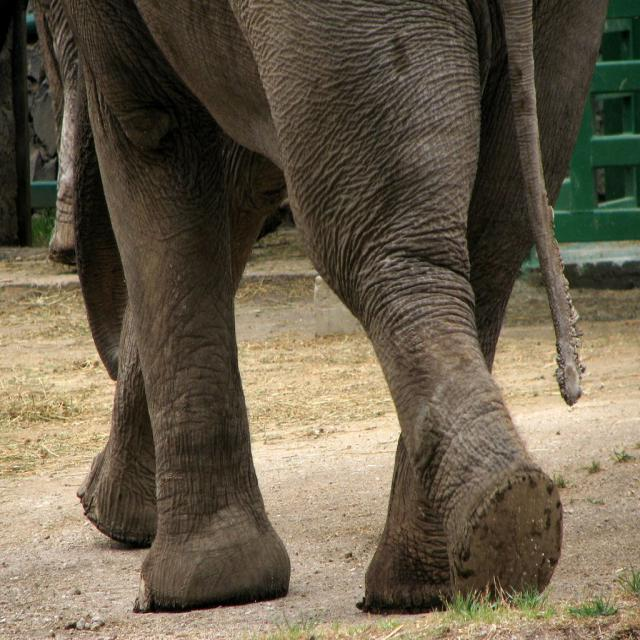elephant: (35, 0, 599, 632)
